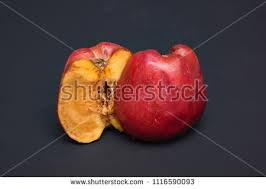damaged_apple: (120, 46, 209, 143), (59, 45, 135, 144)
